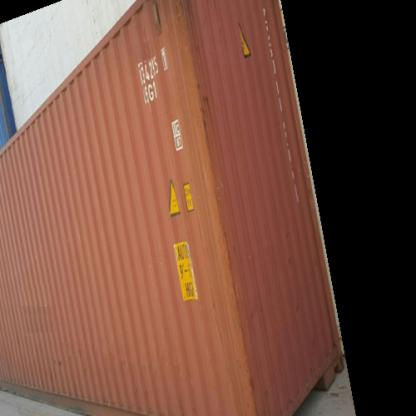Damage: (199, 139, 254, 402), (173, 6, 221, 147)
